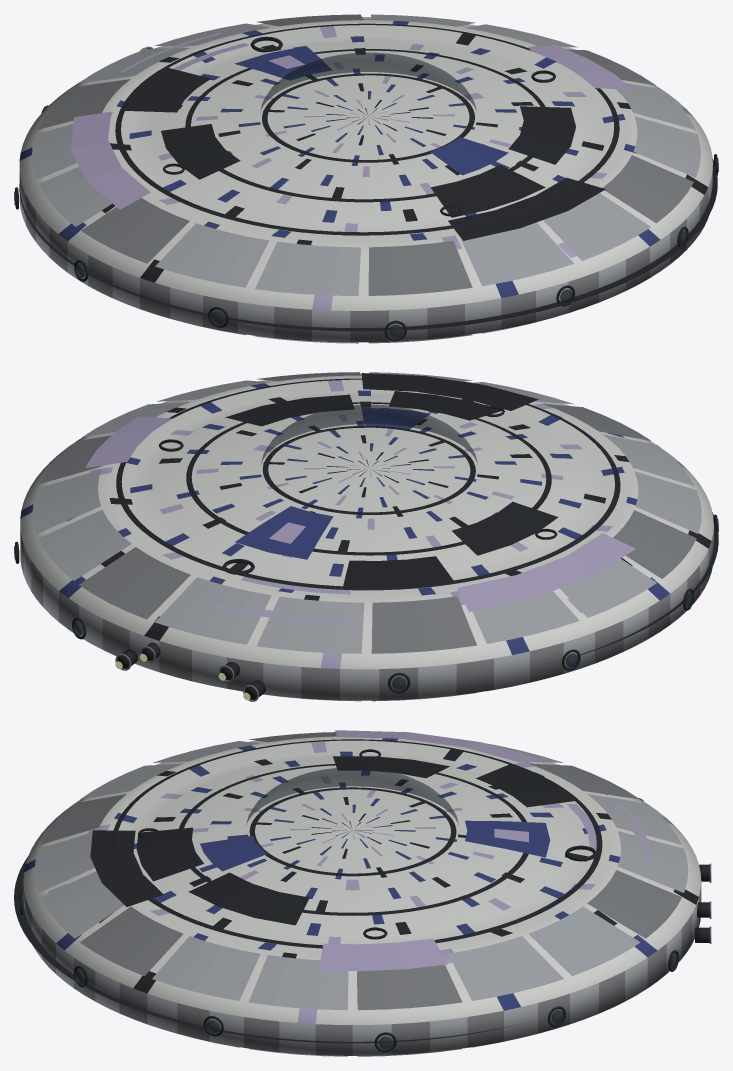
Rendered from Ship_FlyingSaucer_298877.glb.
3 renders of one model, top to bottom at view 1: azimuth 30°, elevation 25°; view 2: azimuth 150°, elevation 25°; view 3: azimuth 270°, elevation 25°, orthographic.
Parts seen in each view (by area): view 1: Hull_LenticularThickDiscBody, RimArmorSegment_12_UpperHullPlate, RimArmorSegment_13_UpperHullPlate, RimArmorSegment_11_UpperHullPlate, RimArmorSegment_14_UpperHullPlate, PanelRing_Top_03_DarkInsetLine, RimArmorSegment_15_UpperHullPlate, RimArmorSegment_10_UpperHullPlate, PaintGlyph_Top_06_OffsetPlate, CommandDomeGlass_CenteredFlattenedDome, EquatorBand_DarkContinuousRimSeam, RimArmorSegment_16_UpperHullPlate (+22 smaller); view 2: Hull_LenticularThickDiscBody, RimArmorSegment_07_UpperHullPlate, RimArmorSegment_06_UpperHullPlate, PaintGlyph_Top_06_OffsetPlate, RimArmorSegment_05_UpperHullPlate, RimArmorSegment_04_UpperHullPlate, PanelRing_Top_03_DarkInsetLine, RimArmorSegment_03_UpperHullPlate, CommandDomeGlass_CenteredFlattenedDome, RimArmorSegment_08_UpperHullPlate, RimArmorSegment_10_UpperHullPlate, RimArmorSegment_09_UpperHullPlate (+19 smaller); view 3: Hull_LenticularThickDiscBody, RimArmorSegment_02_UpperHullPlate, RimArmorSegment_17_UpperHullPlate, RimArmorSegment_18_UpperHullPlate, RimArmorSegment_03_UpperHullPlate, RimArmorSegment_01_UpperHullPlate, RimArmorSegment_16_UpperHullPlate, PanelRing_Top_03_DarkInsetLine, RimArmorSegment_04_UpperHullPlate, PaintGlyph_Top_03_OffsetPlate, CommandDomeGlass_CenteredFlattenedDome, PaintGlyph_Top_04_OffsetPlate (+19 smaller).
Part boxes in pixels (left/top/right/bottom): Hull_LenticularThickDiscBody: left=19, top=17, right=712, bottom=342; RimArmorSegment_12_UpperHullPlate: left=255, top=241, right=360, bottom=295; RimArmorSegment_13_UpperHullPlate: left=368, top=240, right=472, bottom=295; RimArmorSegment_11_UpperHullPlate: left=155, top=223, right=269, bottom=287; RimArmorSegment_14_UpperHullPlate: left=461, top=222, right=573, bottom=286; PanelRing_Top_03_DarkInsetLine: left=115, top=23, right=619, bottom=235; RimArmorSegment_15_UpperHullPlate: left=543, top=193, right=650, bottom=260; RimArmorSegment_10_UpperHullPlate: left=81, top=198, right=189, bottom=263; PaintGlyph_Top_06_OffsetPlate: left=70, top=112, right=150, bottom=209; CommandDomeGlass_CenteredFlattenedDome: left=260, top=52, right=476, bottom=110; EquatorBand_DarkContinuousRimSeam: left=19, top=158, right=717, bottom=331; RimArmorSegment_16_UpperHullPlate: left=603, top=155, right=693, bottom=223; Hull_LenticularThickDiscBody: left=20, top=374, right=713, bottom=700; RimArmorSegment_07_UpperHullPlate: left=371, top=596, right=476, bottom=653; RimArmorSegment_06_UpperHullPlate: left=256, top=596, right=364, bottom=653; PaintGlyph_Top_06_OffsetPlate: left=457, top=533, right=635, bottom=611; RimArmorSegment_05_UpperHullPlate: left=155, top=577, right=271, bottom=644; RimArmorSegment_04_UpperHullPlate: left=79, top=547, right=190, bottom=619; PanelRing_Top_03_DarkInsetLine: left=116, top=378, right=620, bottom=590; RimArmorSegment_03_UpperHullPlate: left=38, top=509, right=131, bottom=580; CommandDomeGlass_CenteredFlattenedDome: left=261, top=404, right=477, bottom=463; RimArmorSegment_08_UpperHullPlate: left=472, top=591, right=579, bottom=643; RimArmorSegment_10_UpperHullPlate: left=613, top=510, right=696, bottom=578; RimArmorSegment_09_UpperHullPlate: left=560, top=558, right=656, bottom=617; Hull_LenticularThickDiscBody: left=23, top=736, right=701, bottom=1055; RimArmorSegment_02_UpperHullPlate: left=448, top=936, right=563, bottom=1000; RimArmorSegment_17_UpperHullPlate: left=152, top=936, right=260, bottom=1000; RimArmorSegment_18_UpperHullPlate: left=248, top=955, right=348, bottom=1010; RimArmorSegment_03_UpperHullPlate: left=528, top=906, right=640, bottom=976; RimArmorSegment_01_UpperHullPlate: left=357, top=965, right=462, bottom=1010; RimArmorSegment_16_UpperHullPlate: left=80, top=906, right=183, bottom=975; PanelRing_Top_03_DarkInsetLine: left=111, top=739, right=602, bottom=948; RimArmorSegment_04_UpperHullPlate: left=587, top=870, right=681, bottom=938; PaintGlyph_Top_03_OffsetPlate: left=318, top=938, right=447, bottom=971; CommandDomeGlass_CenteredFlattenedDome: left=246, top=767, right=458, bottom=824; PaintGlyph_Top_04_OffsetPlate: left=188, top=872, right=309, bottom=925.
Bounding box in the file's own units: 6.3 × 1.87 × 6.4.
